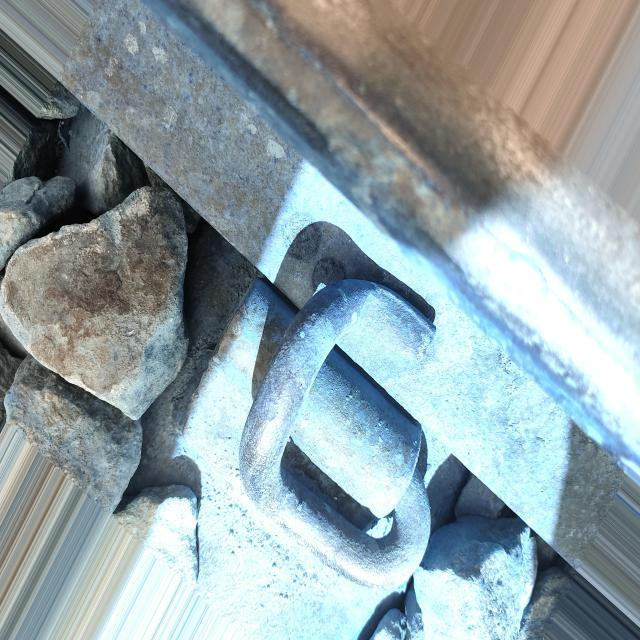Good Fasteners: (162, 272, 457, 601)
